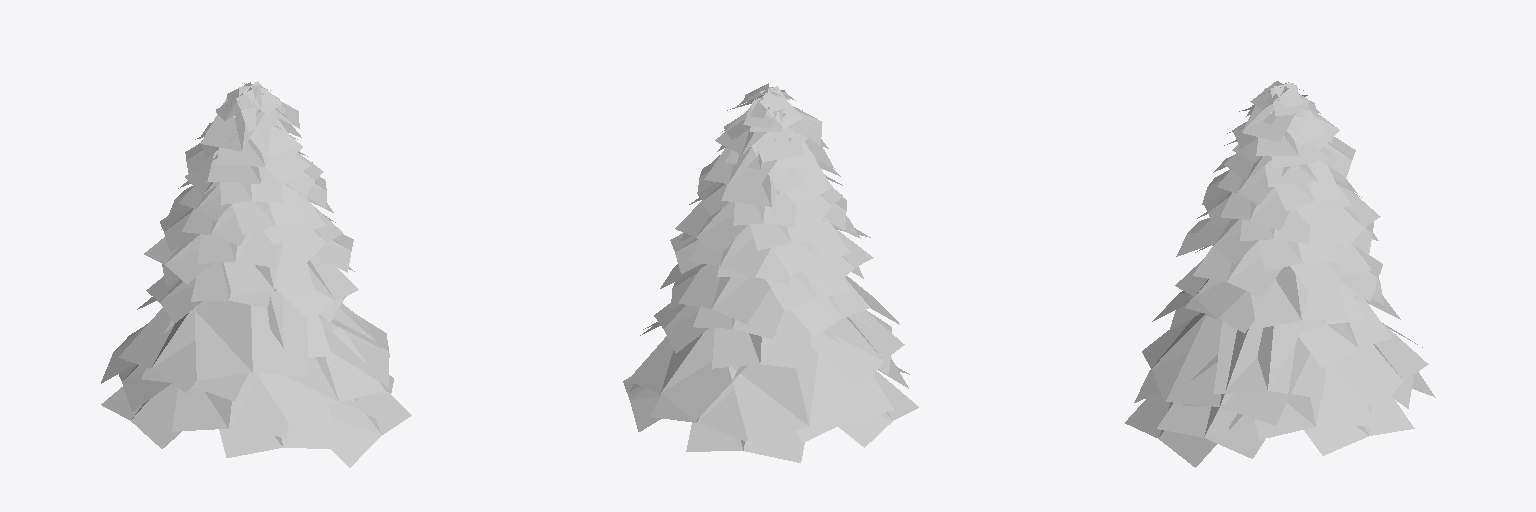
The model's file is pineleaves0.obj.
3 views of the same model, side by side, from view 1: azimuth 30°, elevation 25°; view 2: azimuth 150°, elevation 25°; view 3: azimuth 270°, elevation 25° (orthographic).
Bounding box in the file's own units: 8.24 × 10.43 × 8.64.